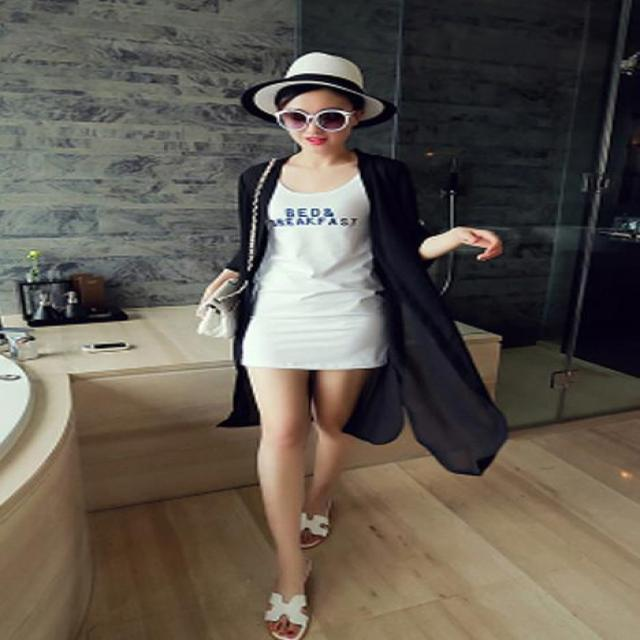long-sleeve-dress: (233, 152, 560, 492)
